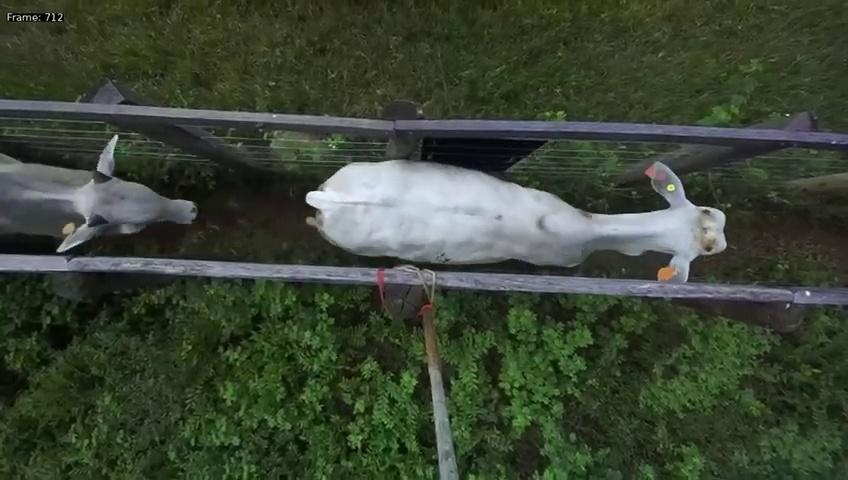cattle: (301, 141, 730, 279), (0, 133, 198, 254)
